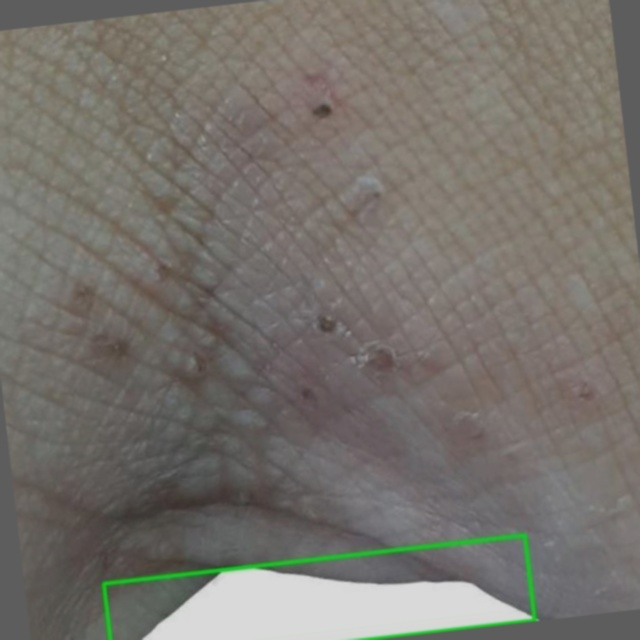Scabies: (103, 535, 534, 639)
